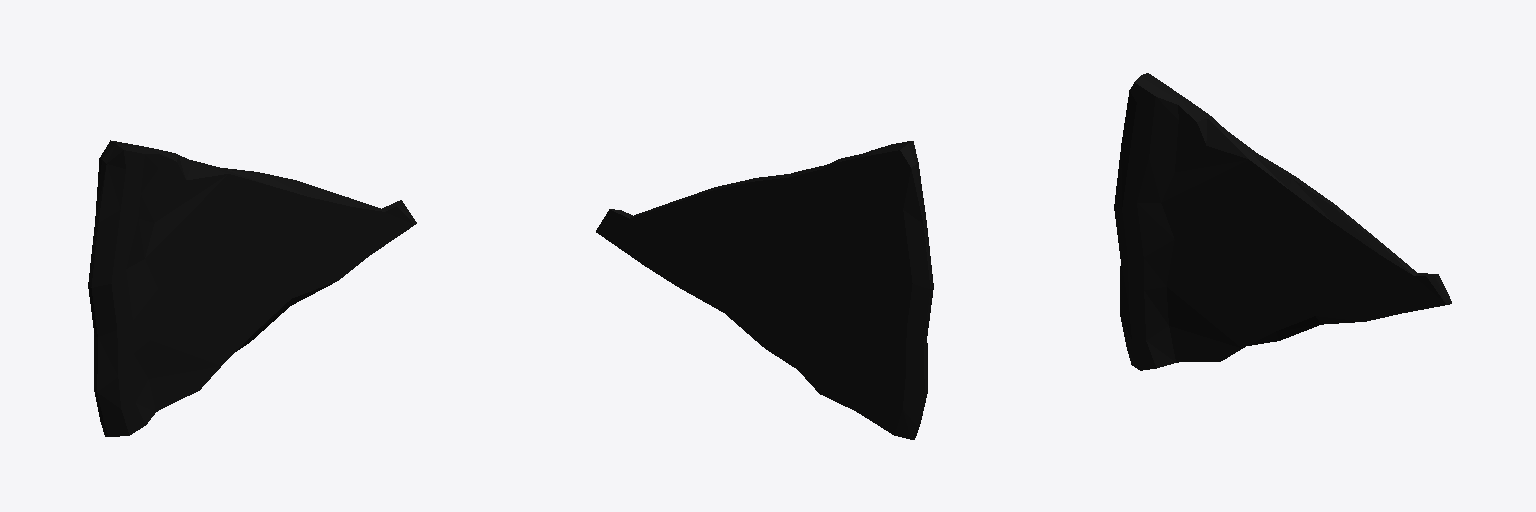
File: PIZZA.obj
The picture shows the model from 3 angles: view 1: azimuth 30°, elevation 25°; view 2: azimuth 150°, elevation 25°; view 3: azimuth 330°, elevation 25°; orthographic projection.
Parts seen in each view (by area): view 1: Plane.021_Plane.030; view 2: Plane.021_Plane.030; view 3: Plane.021_Plane.030.
Part boxes in pixels (x1,y1,x2,y2): Plane.021_Plane.030: (88,140,416,436); Plane.021_Plane.030: (596,141,933,439); Plane.021_Plane.030: (1114,73,1451,370).
Size of the model in its own units: 2.25 by 1.89 by 0.1554.